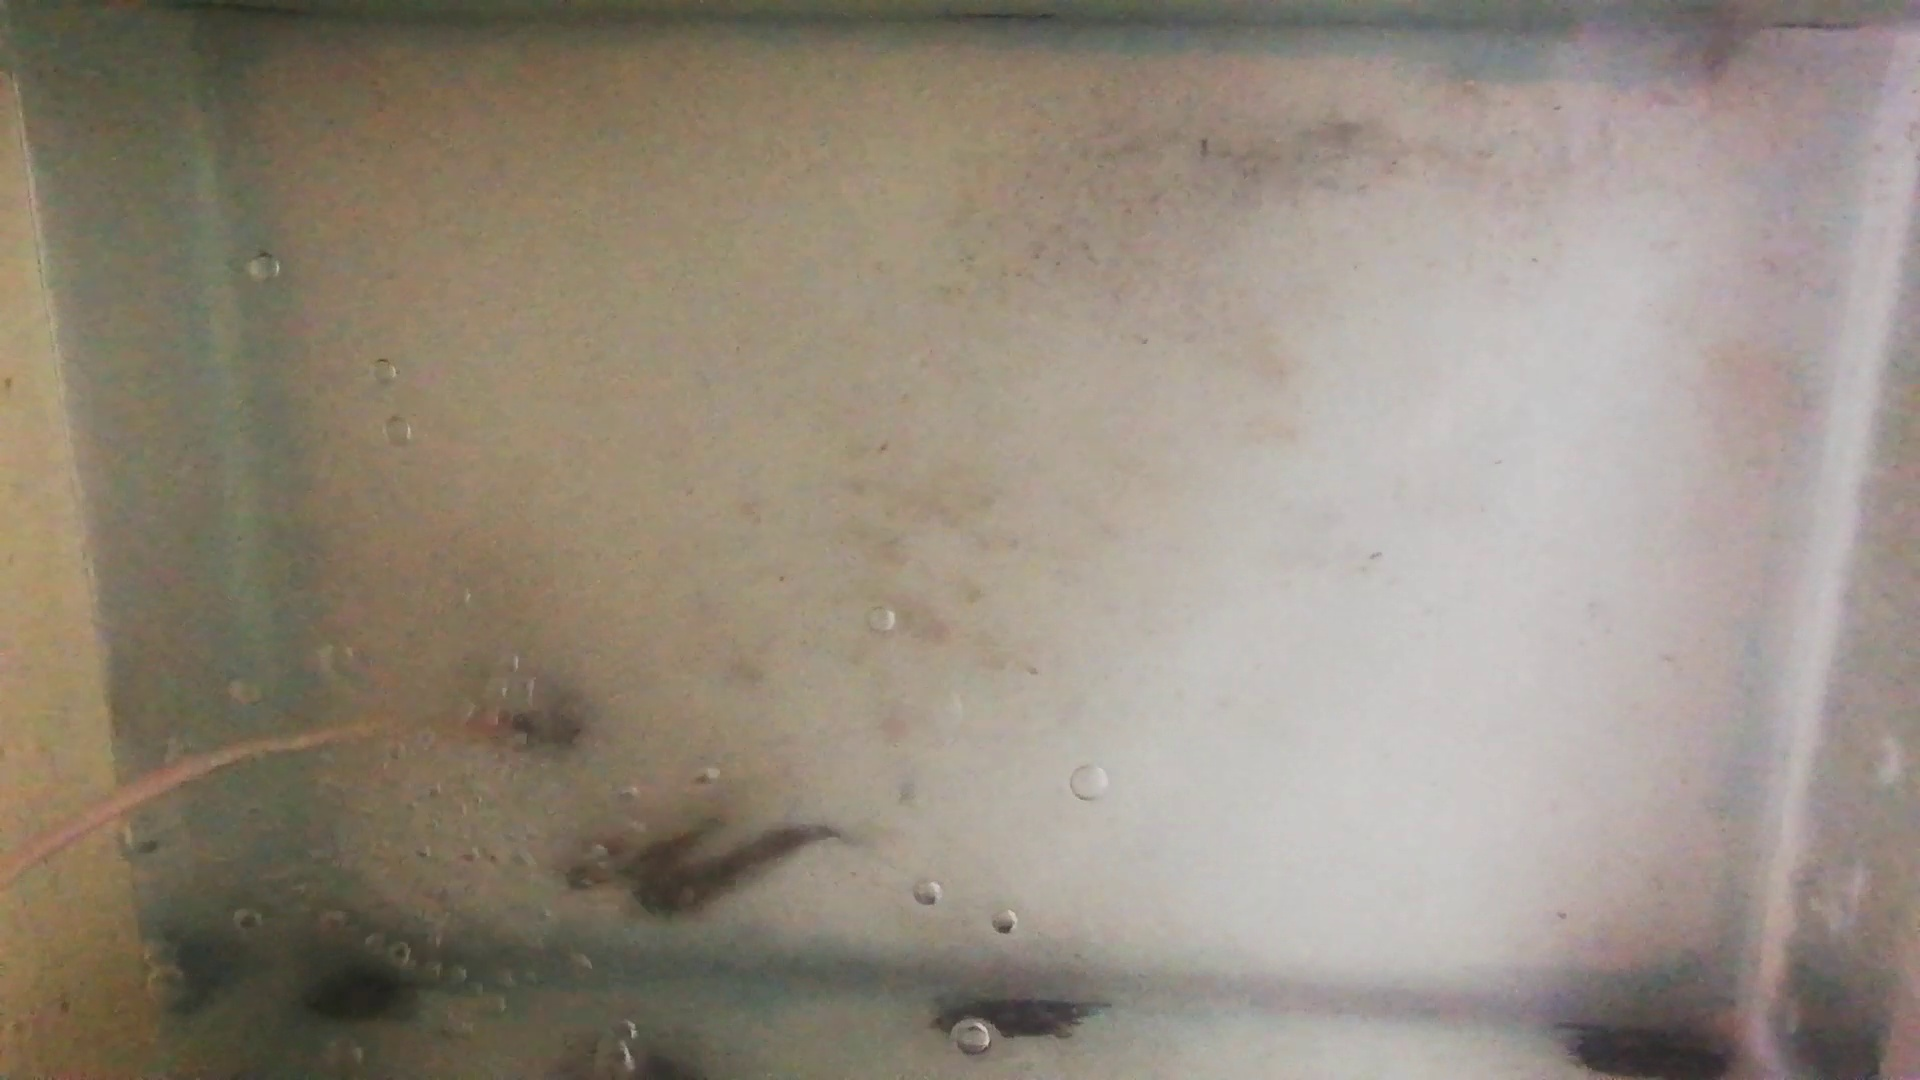fish: (632, 824, 840, 919), (563, 819, 723, 887)
